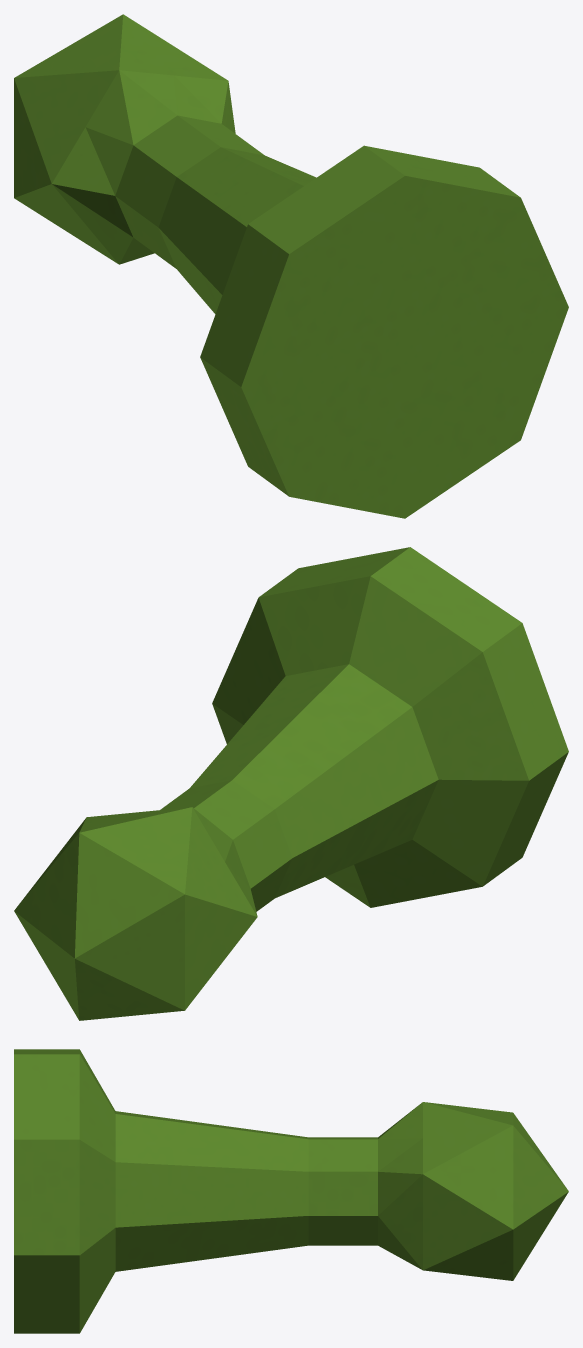
The model's file is Game_Piece_Green.fbx.
3 views of the same model, one above another, from view 1: azimuth 30°, elevation 25°; view 2: azimuth 150°, elevation 25°; view 3: azimuth 270°, elevation 25° (orthographic). The views are drawn at different scales.
Visible parts, largest first — view 1: Game_Piece_Green; view 2: Game_Piece_Green; view 3: Game_Piece_Green.
Part boxes in pixels (bbox=[...]): Game_Piece_Green: bbox=[14, 14, 568, 518]; Game_Piece_Green: bbox=[14, 547, 568, 1020]; Game_Piece_Green: bbox=[14, 1049, 568, 1333].
Bounding box in the file's own units: 0.6 × 0.6 × 1.1.
Materials: 1 (1 with a texture image).
